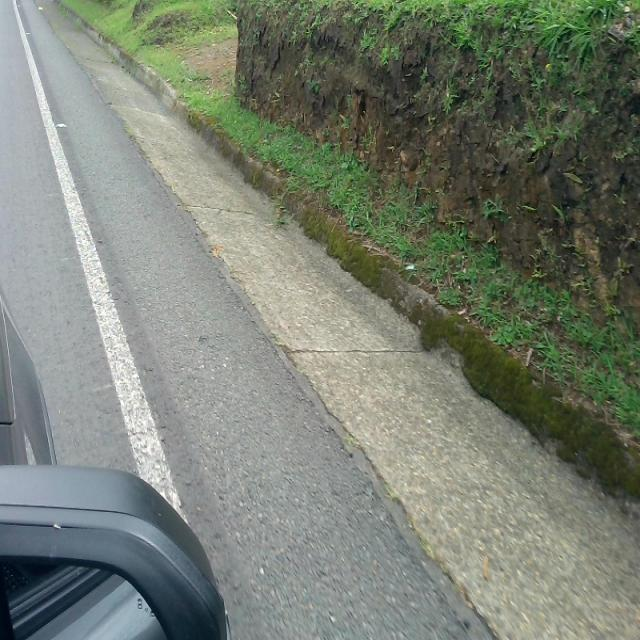DITCH: (2, 2, 638, 638), (6, 1, 637, 638), (27, 1, 638, 638)
